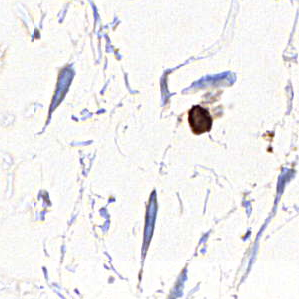Lymphocyte: (187, 105, 213, 137)
